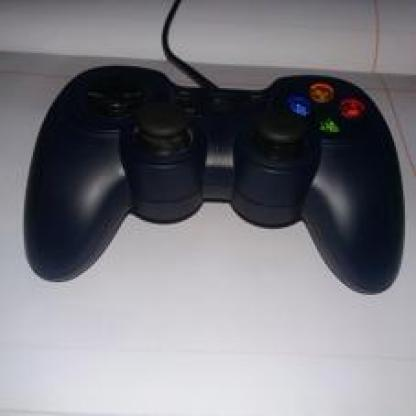gamepad: (29, 52, 396, 312)
